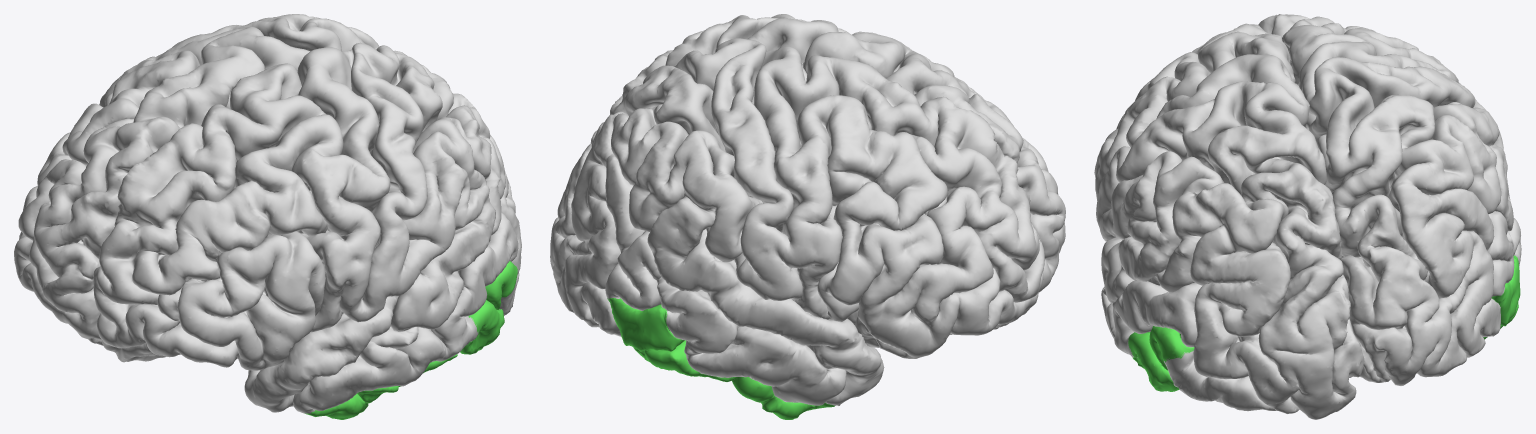
File: brainalzheimer.glb
The picture shows the model from 3 angles, left to right: view 1: azimuth 30°, elevation 25°; view 2: azimuth 150°, elevation 25°; view 3: azimuth 270°, elevation 25°; orthographic projection.
Parts seen in each view (by area): view 1: lh.pial_0, rh.pial_1, lh.pial.DKT.inferiortemporal_4; view 2: rh.pial_1, lh.pial_0, rh.pial.DKT.inferiortemporal_8; view 3: lh.pial_0, rh.pial_1, lh.pial.DKT.inferiortemporal_4, rh.pial.DKT.inferiortemporal_8.
Boxes of the visible parts, box(x1,y1,x2,y2) form: lh.pial_0: box(93, 42, 521, 413); rh.pial_1: box(14, 14, 379, 345); lh.pial.DKT.inferiortemporal_4: box(305, 261, 517, 419); rh.pial_1: box(550, 38, 1044, 405); lh.pial_0: box(590, 14, 1065, 292); rh.pial.DKT.inferiortemporal_8: box(607, 298, 835, 419); lh.pial_0: box(1094, 23, 1364, 419); rh.pial_1: box(1258, 14, 1521, 385); lh.pial.DKT.inferiortemporal_4: box(1128, 326, 1194, 391); rh.pial.DKT.inferiortemporal_8: box(1483, 255, 1520, 339).
Bounding box in the file's own units: 172 × 115 × 140.
